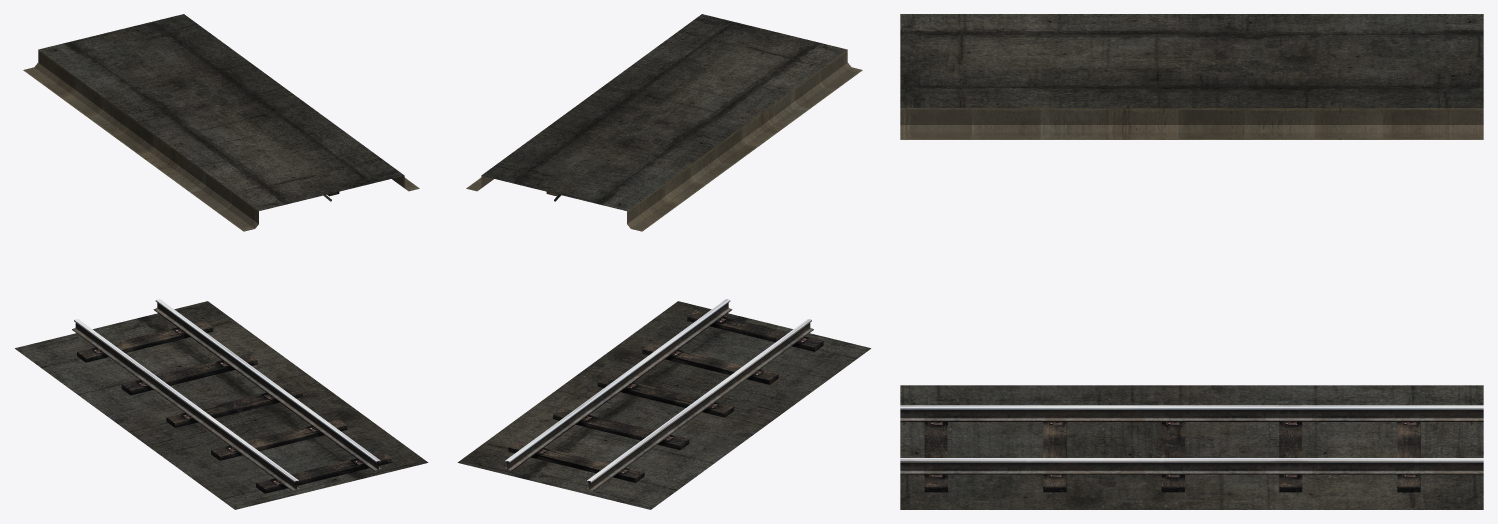
The model's file is TunnelMidA.fbx.
3 views of the same model, side by side, from view 1: azimuth 30°, elevation 25°; view 2: azimuth 150°, elevation 25°; view 3: azimuth 270°, elevation 25° (orthographic). The views are drawn at different scales.
Parts seen in each view (by area): view 1: TunnelMidA; view 2: TunnelMidA; view 3: TunnelMidA.
Boxes of the visible parts, box(x1,y1,x2,y2) form: TunnelMidA: box(15, 14, 428, 509); TunnelMidA: box(457, 14, 870, 509); TunnelMidA: box(900, 14, 1483, 509).
Bounding box in the file's own units: 380 × 556 × 751.
